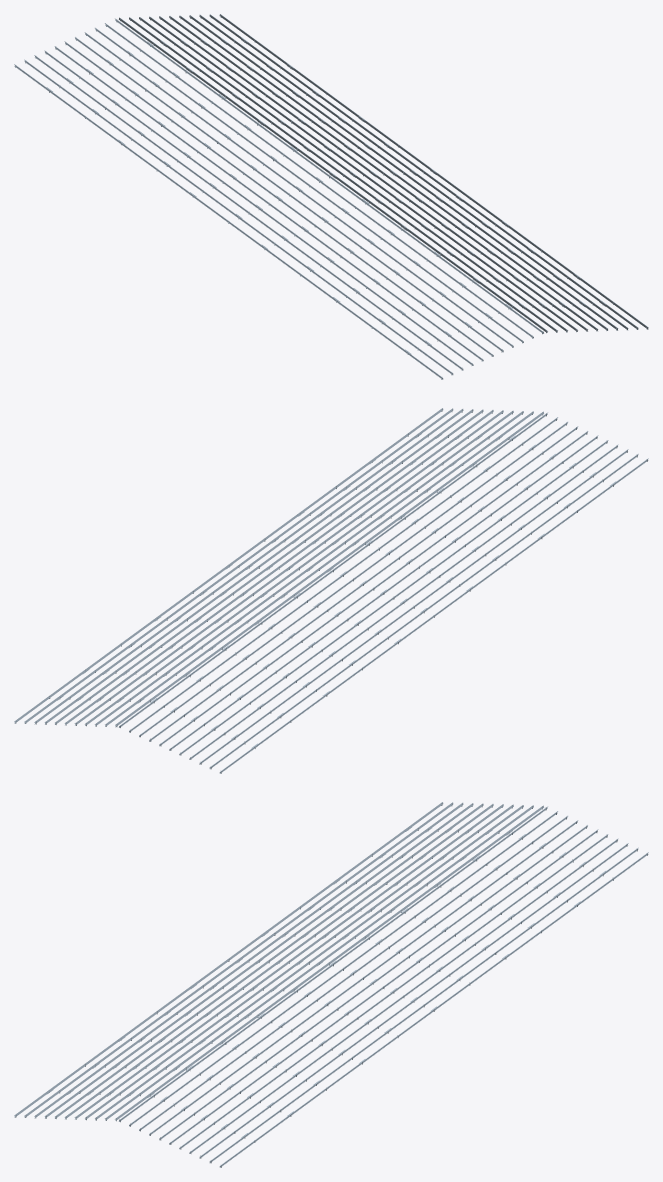
File: gording.glb
3 renders of one model, top to bottom at view 1: azimuth 30°, elevation 25°; view 2: azimuth 150°, elevation 25°; view 3: azimuth 330°, elevation 25°, orthographic.
Visible parts, largest first — view 1: gording; view 2: gording; view 3: gording.
Boxes of the visible parts, left/top/right/bottom form: gording: left=14, top=14, right=648, bottom=379; gording: left=14, top=408, right=648, bottom=773; gording: left=14, top=802, right=648, bottom=1167.
Bounding box in the file's own units: 16.64 × 1.86 × 59.77.
